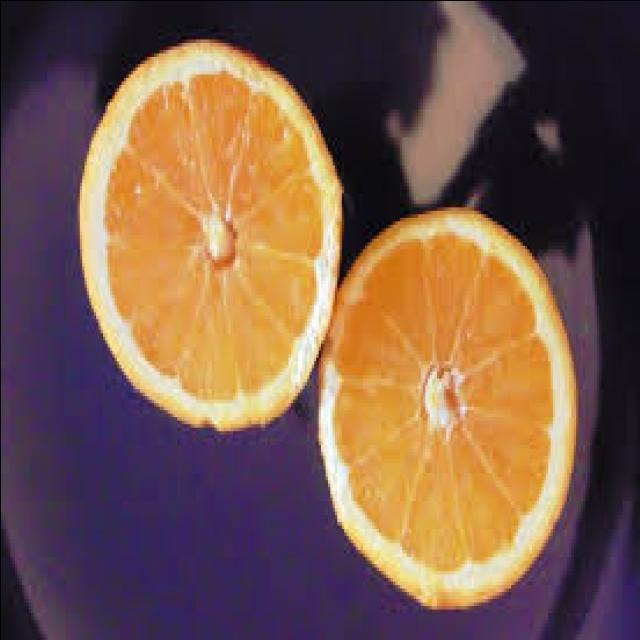orange: (310, 185, 580, 625)
